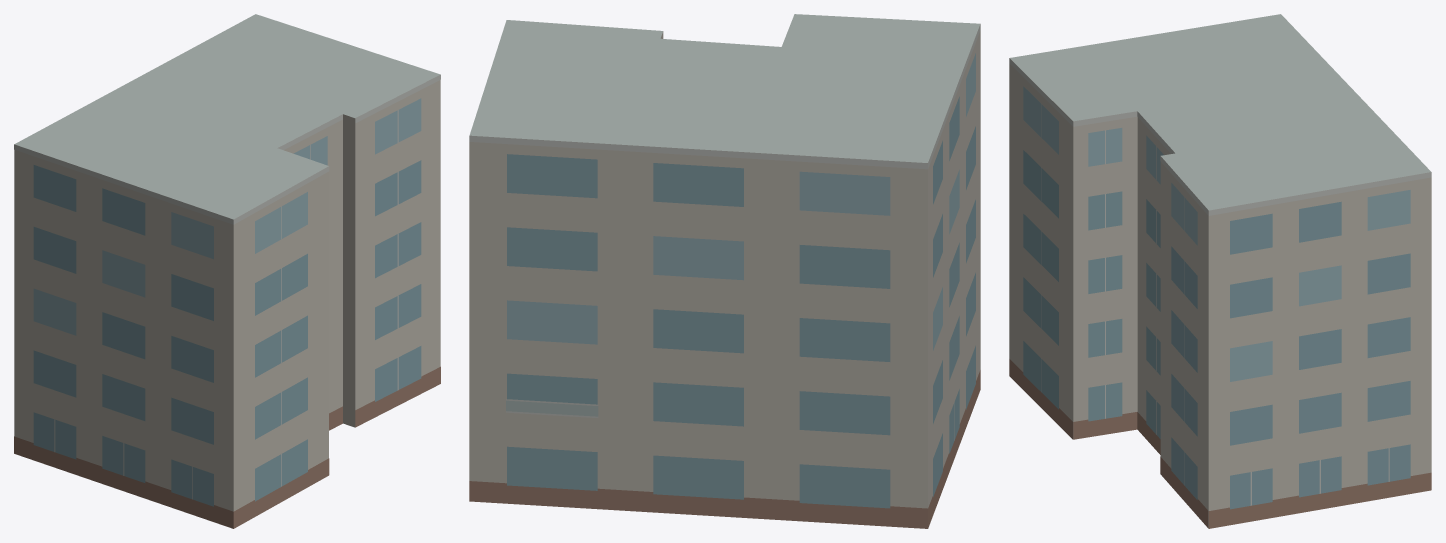
Rendered from survey-upis-32849672.glb.
3 renders of one model, left to right at view 1: azimuth 30°, elevation 25°; view 2: azimuth 150°, elevation 25°; view 3: azimuth 270°, elevation 25°, orthographic. The views are drawn at different scales.
Parts seen in each view (by area): view 1: survey-upis-32849672.tmp; view 2: survey-upis-32849672.tmp; view 3: survey-upis-32849672.tmp.
Part boxes in pixels (left/top/right/bottom): survey-upis-32849672.tmp: left=14, top=14, right=440, bottom=528; survey-upis-32849672.tmp: left=469, top=14, right=980, bottom=528; survey-upis-32849672.tmp: left=1009, top=14, right=1431, bottom=528.
Size of the model in its own units: 19.02 by 14.35 by 17.26.
